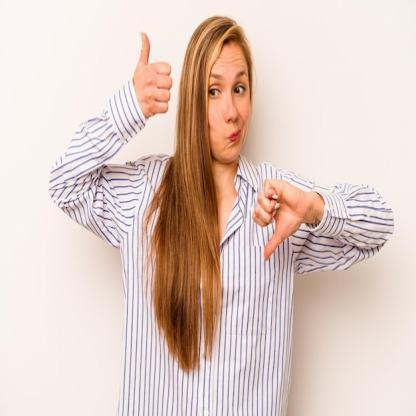thumb_down: (249, 172, 302, 262)
thumb_up: (130, 26, 172, 122)
